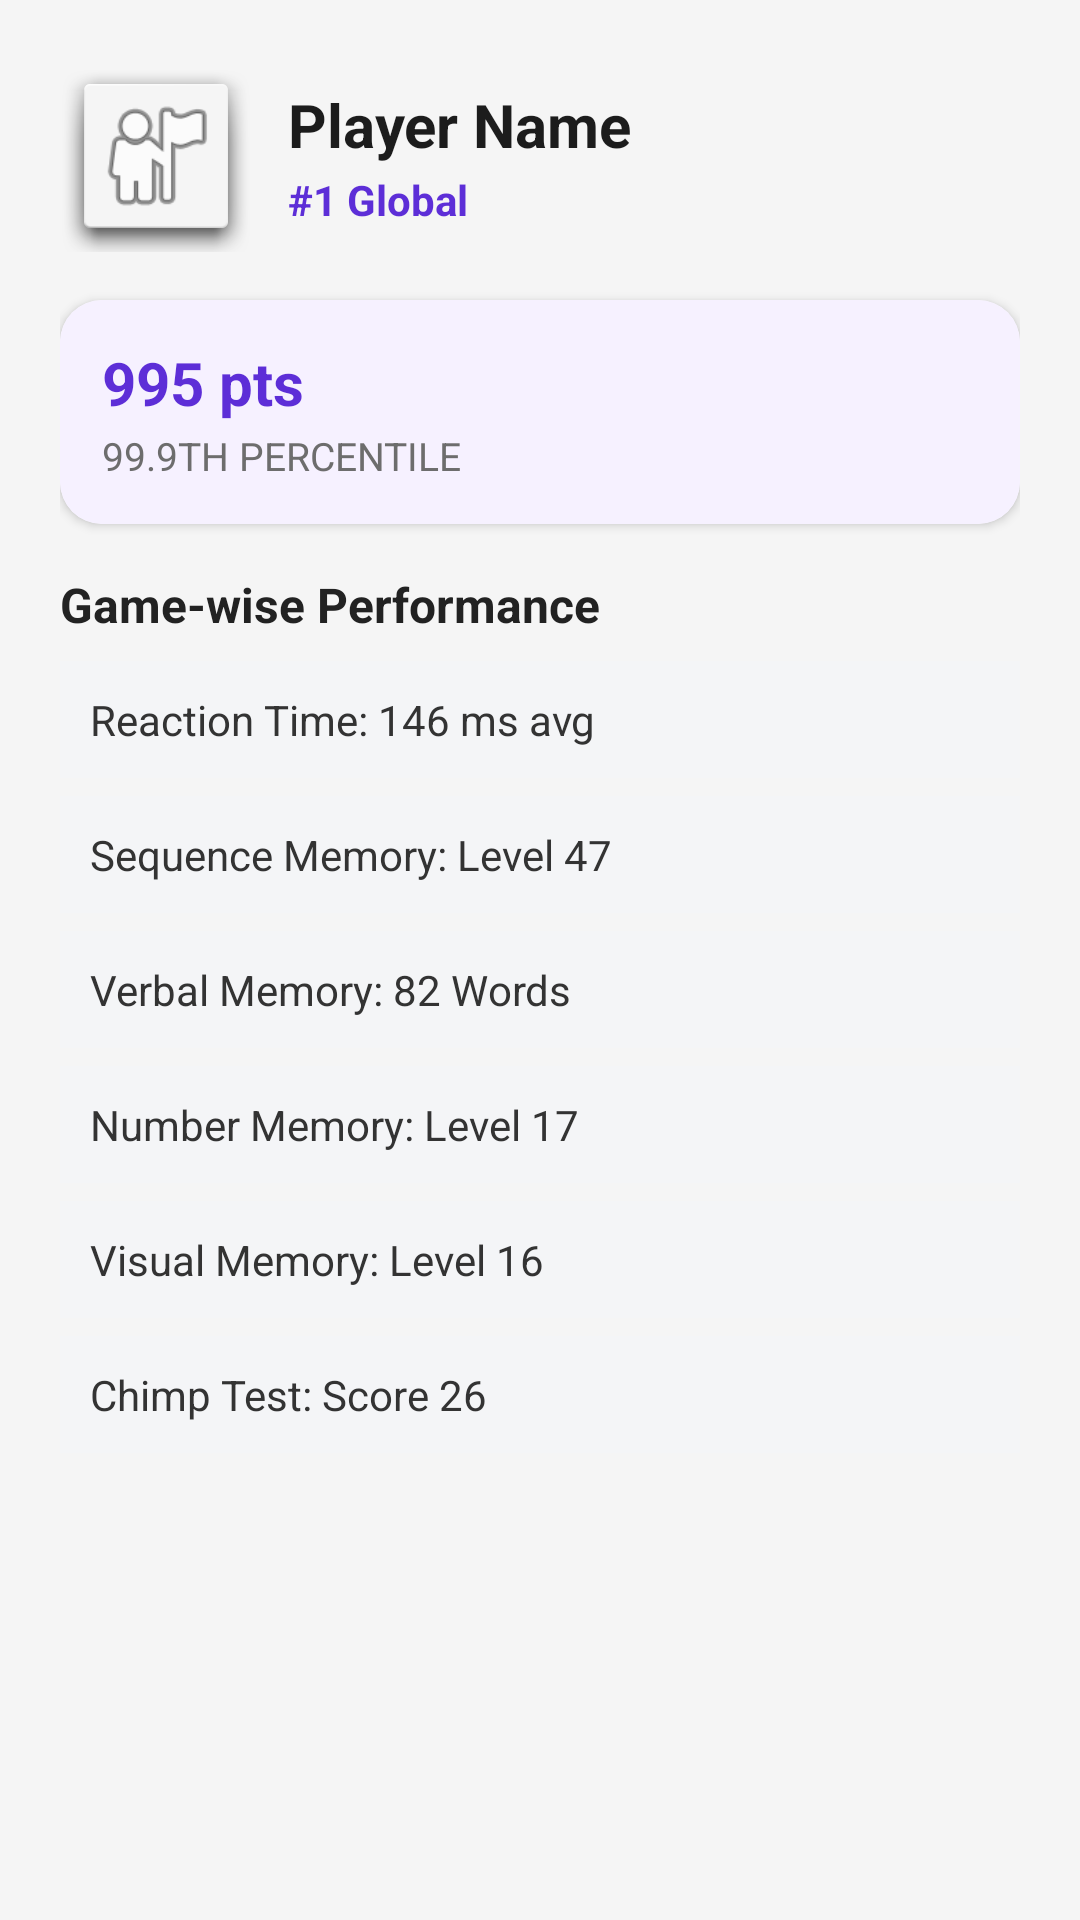

Icons on this 1080w x 1920h Android screen, each with the point to tap as point (x, y):
myplaces: point (156, 164)
